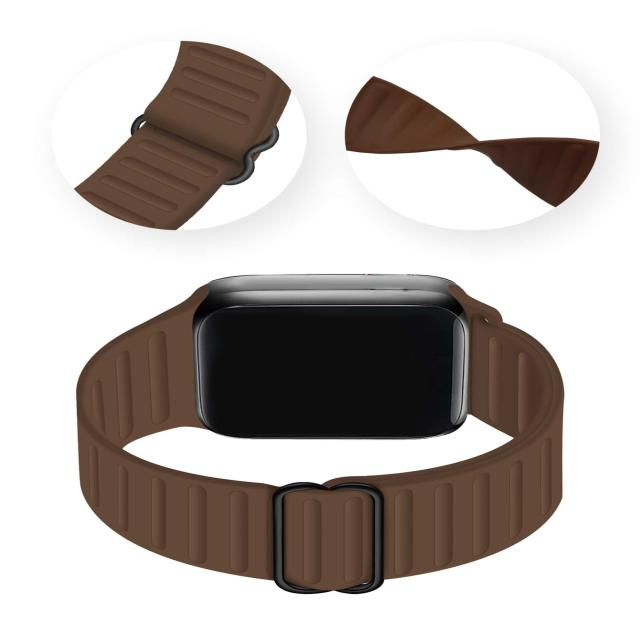bracelet: (11, 243, 640, 603)
